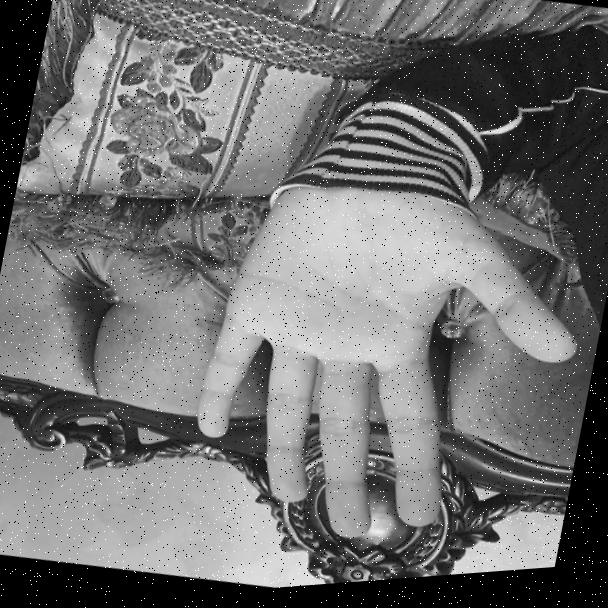five: (147, 119, 608, 597)
